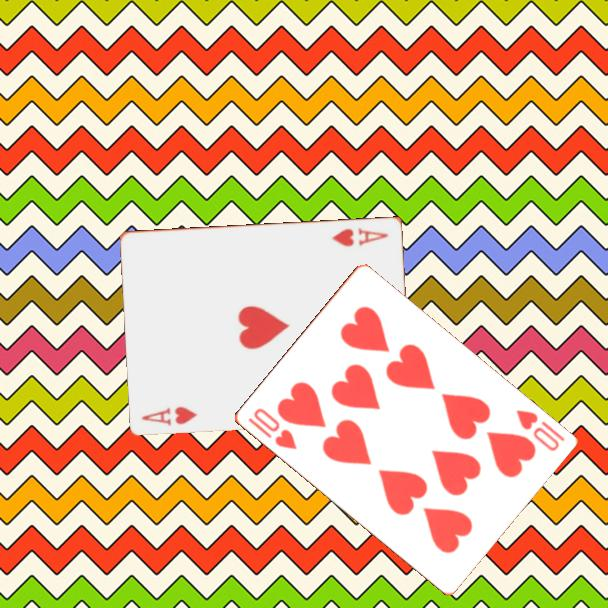h01: (329, 224, 391, 249), (139, 403, 201, 428)
h10: (244, 404, 299, 452), (512, 406, 567, 454)
